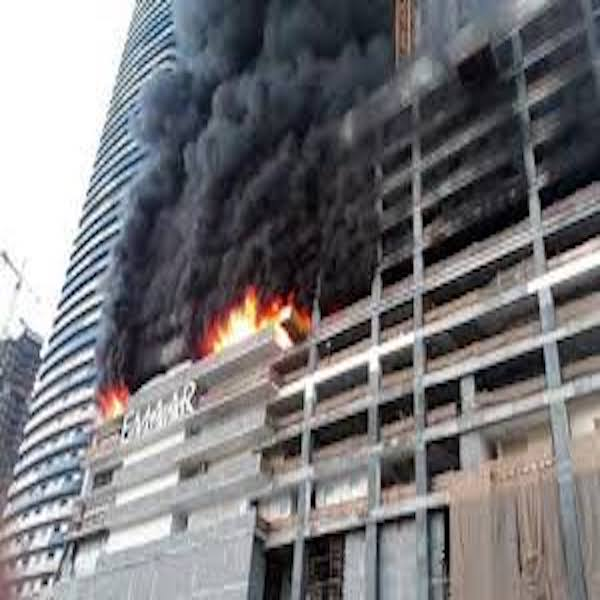fire: (197, 263, 311, 348)
